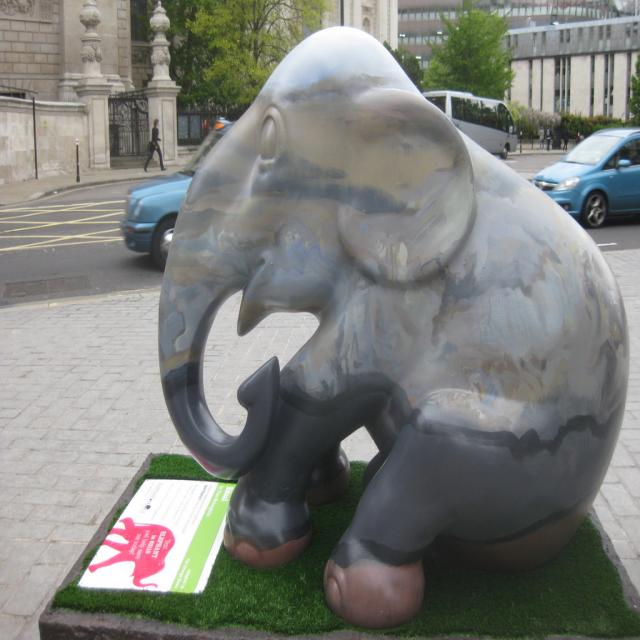elephant: (151, 42, 627, 602)
